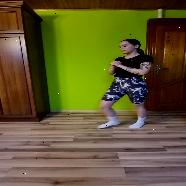lunges: (92, 37, 168, 132)
